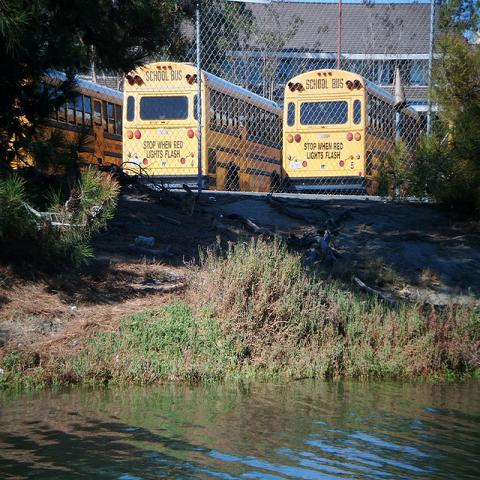bus: (121, 63, 287, 192), (282, 70, 424, 196), (7, 68, 124, 174)
